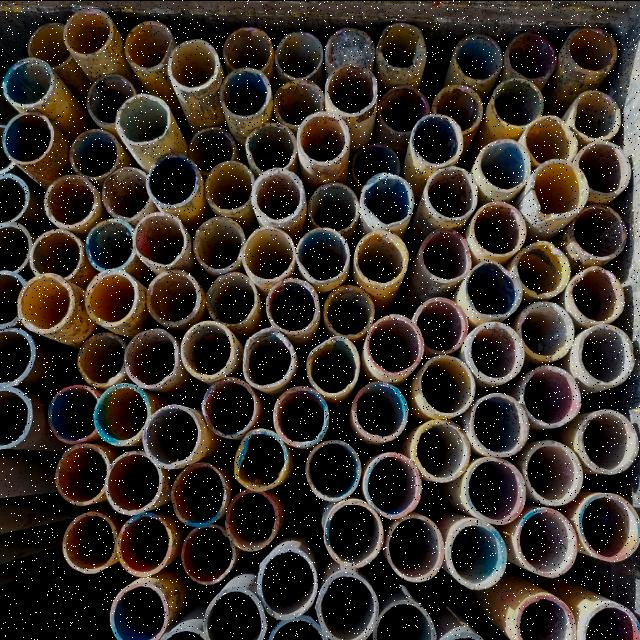pipe: (440, 517, 506, 591), (514, 504, 578, 578), (315, 567, 379, 639), (462, 456, 526, 524), (577, 493, 639, 562), (322, 500, 384, 568), (522, 439, 584, 505), (256, 550, 316, 618), (576, 411, 638, 476), (576, 323, 636, 390), (364, 450, 420, 520), (109, 516, 173, 576), (384, 516, 444, 580), (92, 382, 150, 448), (366, 311, 424, 377), (468, 394, 528, 456), (106, 582, 170, 640), (176, 322, 240, 380), (50, 442, 106, 508), (60, 510, 116, 576), (202, 586, 270, 640), (142, 404, 201, 466), (169, 29, 221, 99), (411, 416, 466, 482), (520, 368, 580, 428), (82, 266, 140, 328), (106, 448, 162, 512), (294, 224, 350, 288), (575, 140, 634, 200), (242, 324, 294, 392), (18, 274, 75, 336), (232, 428, 289, 490), (467, 318, 522, 382), (419, 353, 473, 418), (166, 465, 226, 523), (198, 379, 258, 437), (264, 276, 322, 336), (568, 17, 620, 82), (462, 260, 520, 318), (124, 328, 180, 388), (296, 110, 352, 170), (146, 146, 200, 208), (304, 438, 358, 500), (306, 333, 357, 397), (132, 210, 188, 268), (144, 268, 202, 324), (354, 229, 410, 287), (4, 108, 58, 168), (410, 294, 464, 354), (533, 158, 587, 218), (353, 380, 405, 442), (520, 300, 572, 362), (31, 226, 88, 282), (359, 170, 414, 228), (44, 383, 97, 443), (225, 490, 278, 550), (471, 196, 524, 256), (512, 592, 578, 640), (42, 173, 98, 229), (220, 20, 276, 76), (241, 224, 297, 280), (568, 266, 624, 322), (180, 524, 234, 582), (272, 387, 326, 445), (448, 25, 502, 83), (474, 136, 528, 194), (410, 111, 464, 168), (571, 208, 628, 262), (202, 272, 258, 326), (421, 164, 477, 218), (526, 114, 582, 168), (272, 72, 324, 130), (518, 240, 570, 298), (184, 120, 237, 176), (416, 227, 472, 280), (252, 165, 304, 222), (116, 90, 167, 148), (322, 20, 376, 74), (222, 64, 272, 122), (374, 594, 436, 640), (86, 215, 136, 272), (75, 332, 127, 386), (572, 90, 626, 142), (1, 56, 57, 106), (194, 214, 244, 270), (310, 180, 360, 236), (84, 70, 132, 128), (244, 120, 296, 172), (429, 84, 481, 136), (322, 286, 376, 336), (376, 18, 426, 72), (62, 6, 115, 56), (353, 138, 402, 192), (326, 66, 374, 121), (102, 163, 148, 220), (69, 126, 119, 178), (493, 78, 545, 128), (274, 27, 322, 81), (122, 18, 168, 74), (506, 29, 554, 82), (206, 159, 250, 215), (580, 596, 636, 640), (382, 84, 432, 132), (0, 326, 38, 388), (0, 384, 34, 450), (26, 22, 72, 68), (0, 220, 30, 272), (0, 264, 22, 328), (270, 620, 332, 640), (1, 172, 24, 220)
